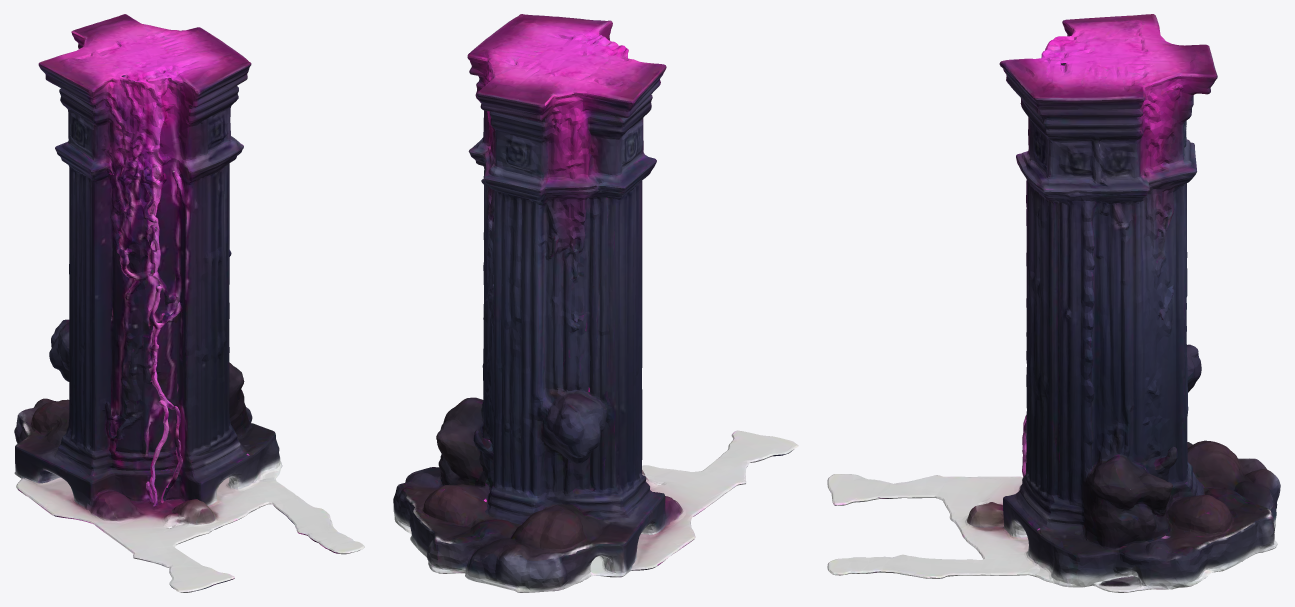
The model's file is weathered-monolith-pillar-generated-2026-04-19T23-51-13-313Z.low.glb.
The picture shows the model from 3 angles, left to right: view 1: azimuth 30°, elevation 25°; view 2: azimuth 150°, elevation 25°; view 3: azimuth 270°, elevation 25°; orthographic projection. The views are drawn at different scales.
Parts seen in each view (by area): view 1: temp_mesh.ply; view 2: temp_mesh.ply; view 3: temp_mesh.ply.
Part boxes in pixels (left/top/right/bottom): temp_mesh.ply: left=14, top=14, right=364, bottom=592; temp_mesh.ply: left=393, top=14, right=798, bottom=592; temp_mesh.ply: left=827, top=14, right=1280, bottom=592.
Bounding box in the file's own units: 1.14 × 1.97 × 1.73.
Materials: 1 (1 with a texture image).
